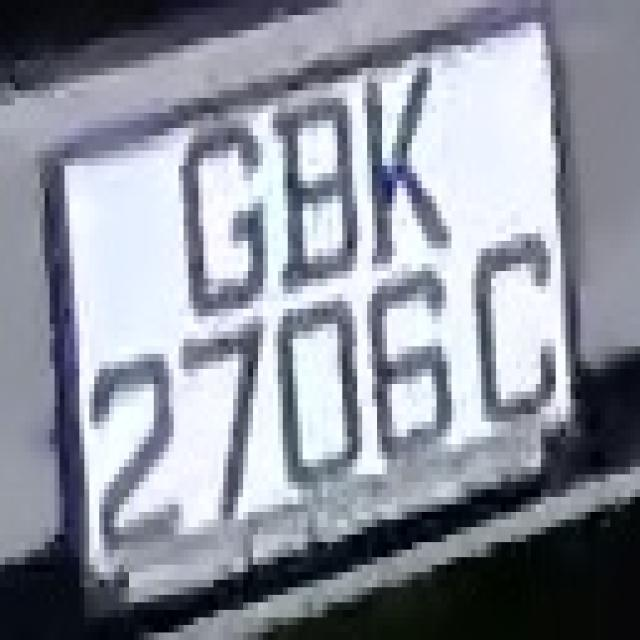0: (263, 294, 362, 504)
2: (64, 332, 188, 572)
6: (342, 286, 467, 482)
7: (174, 316, 273, 542)
B: (273, 60, 362, 286)
C: (462, 218, 570, 444)
G: (174, 113, 278, 331)
K: (348, 52, 452, 264)
